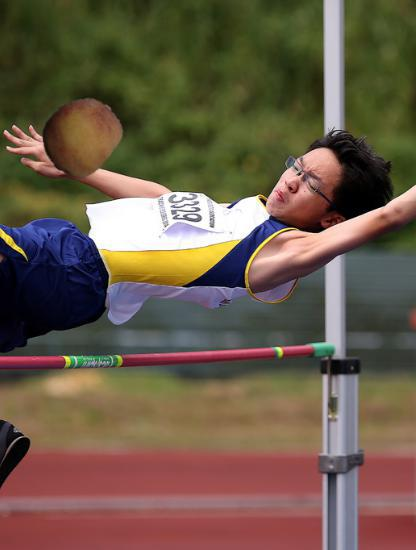Peach: (40, 95, 122, 177)
